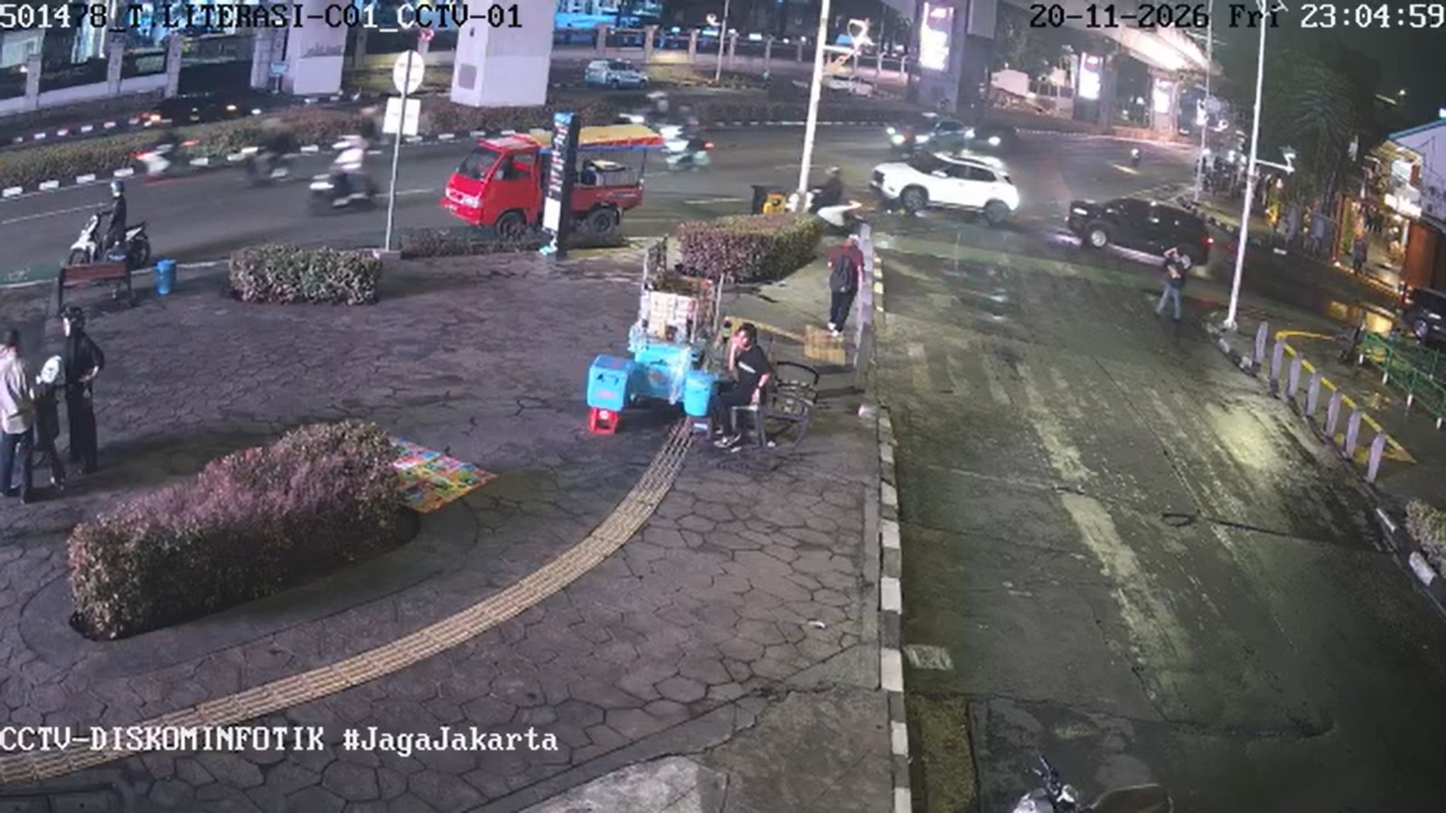Gerobak: (600, 168, 904, 451), (578, 264, 730, 439)
